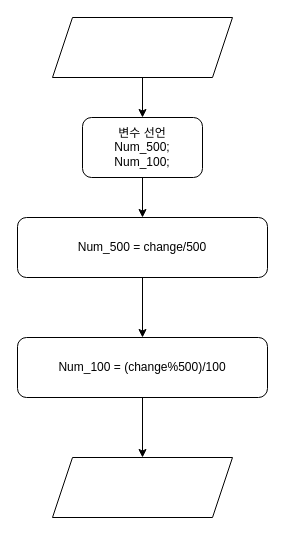
The diagram is 285 pixels wide and 535 high, and some of its shapes have lost their labels. Here are the shapes that lost their labels. From the top down, the centre of each, then its label:
At (142,47): "입력 change".
At (142,487): "출력 Num_500 Num_100".
